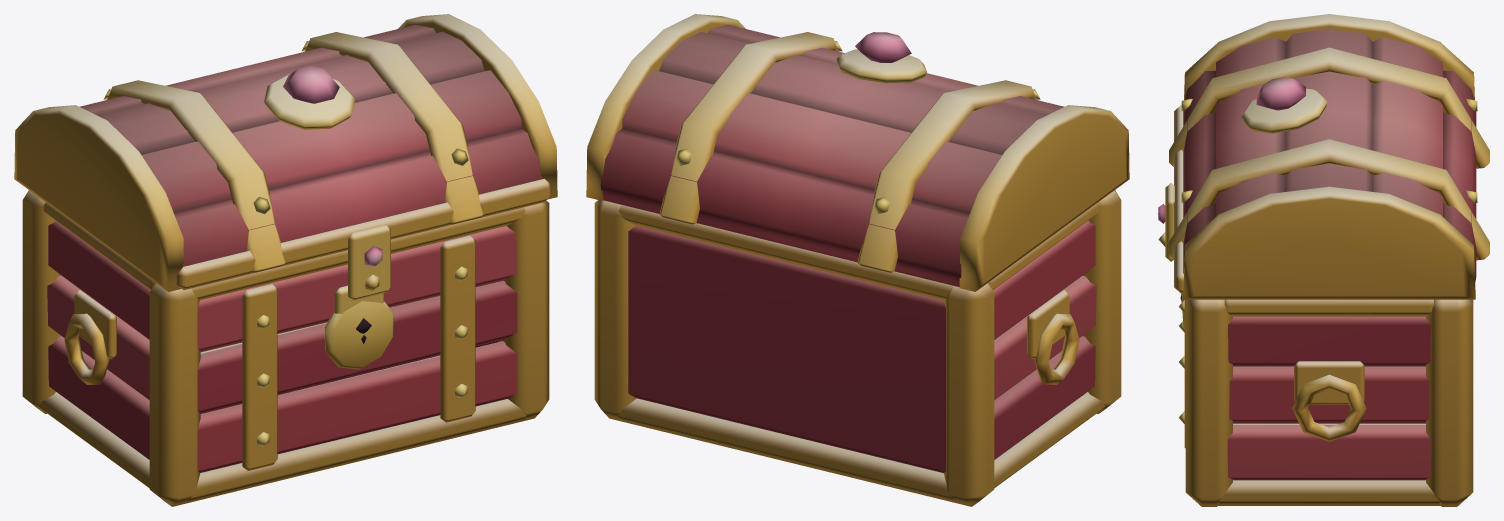
File: chest-gold.glb
The picture shows the model from 3 angles, left to right: view 1: azimuth 30°, elevation 25°; view 2: azimuth 150°, elevation 25°; view 3: azimuth 270°, elevation 25°; orthographic projection. The views are drawn at different scales.
Visible parts, largest first — view 1: body, lid; view 2: body, lid; view 3: lid, body.
Part boxes in pixels (x1,y1,x2,y2): body: (22,190,549,506); lid: (14,14,557,300); body: (594,190,1121,506); lid: (586,14,1129,291); lid: (1158,14,1489,299); body: (1178,293,1473,506).
Bounding box in the file's own units: 0.958 × 0.7991 × 0.7038.
